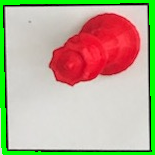Red Queen: (48, 9, 142, 89)
